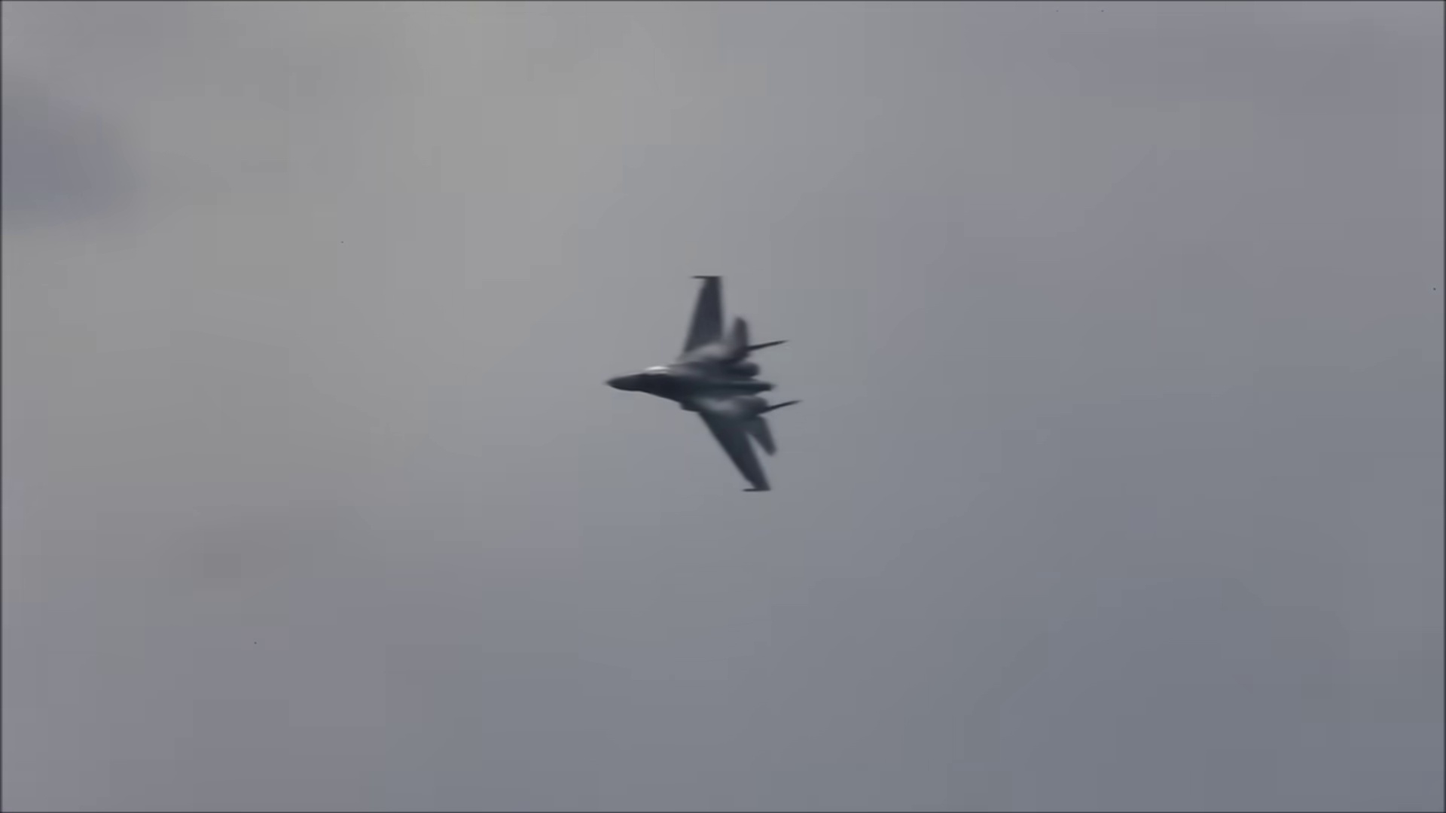Su35: (596, 265, 830, 503)
